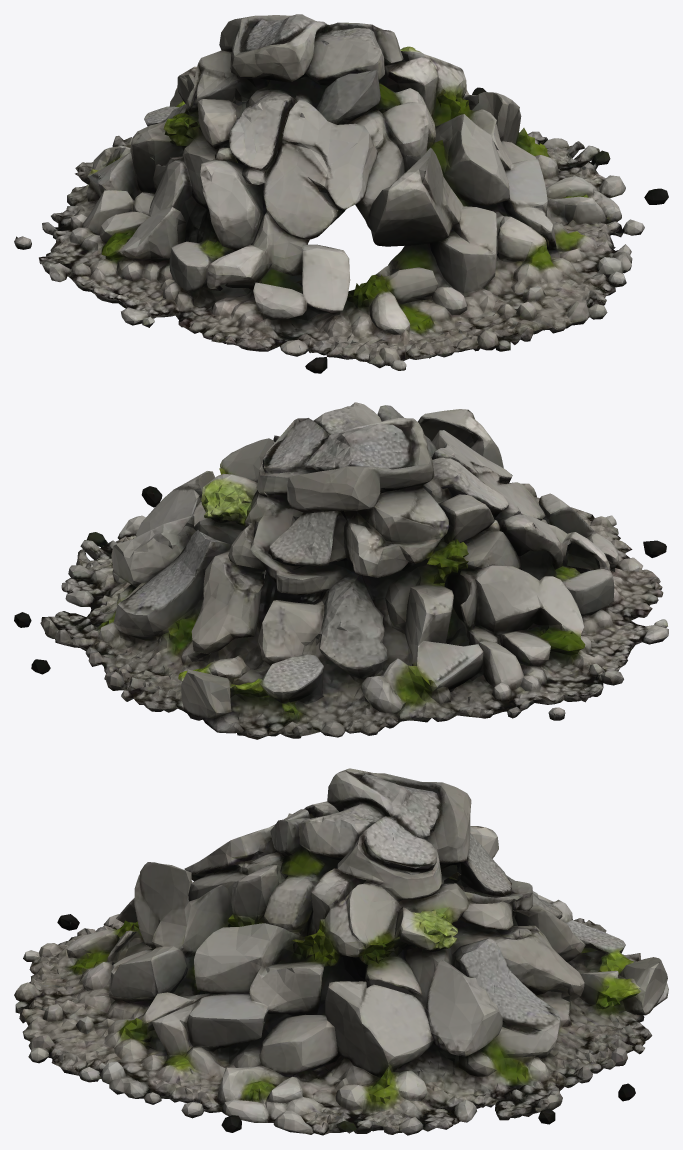
The model's file is generated_rubble_pile.glb.
3 renders of one model, top to bottom at view 1: azimuth 30°, elevation 25°; view 2: azimuth 150°, elevation 25°; view 3: azimuth 270°, elevation 25°, orthographic. The views are drawn at different scales.
Parts seen in each view (by area): view 1: geometry_0; view 2: geometry_0; view 3: geometry_0.
Part boxes in pixels (x1,y1,x2,y2): geometry_0: (14,14,668,373); geometry_0: (14,402,668,739); geometry_0: (14,768,668,1135).
Size of the model in its own units: 0.9927 by 0.3645 by 1.
1 material, 1 textured.
